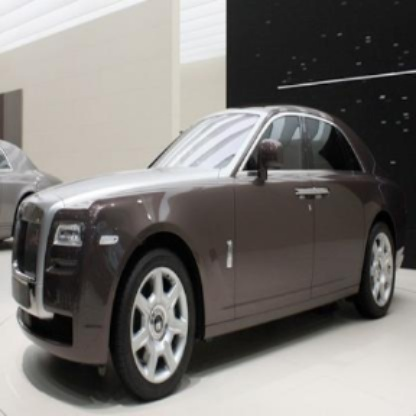Vehicle: (10, 102, 407, 405)
